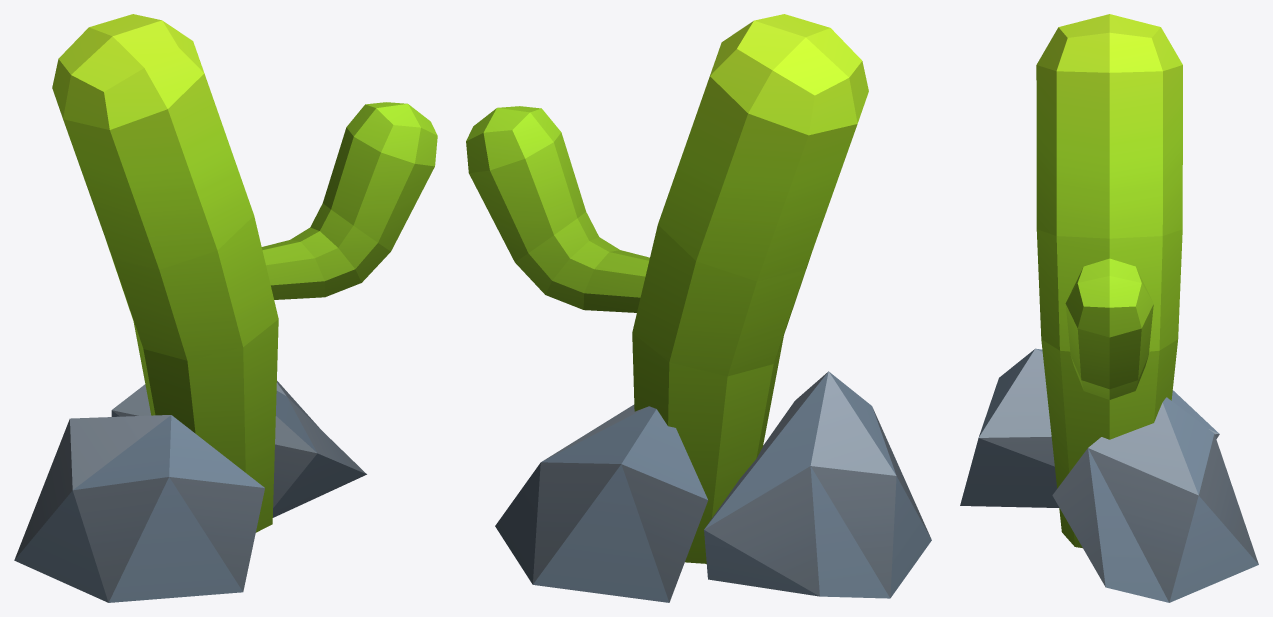
The model's file is cactus_3.fbx.
The picture shows the model from 3 angles, left to right: view 1: azimuth 30°, elevation 25°; view 2: azimuth 150°, elevation 25°; view 3: azimuth 270°, elevation 25°; orthographic projection. The views are drawn at different scales.
Visible parts, largest first — view 1: cactus3; view 2: cactus3; view 3: cactus3.
Part boxes in pixels (left/top/right/bottom): cactus3: left=14, top=14, right=437, bottom=602; cactus3: left=466, top=14, right=931, bottom=602; cactus3: left=960, top=14, right=1258, bottom=602.
Bounding box in the file's own units: 198 × 238 × 136.
